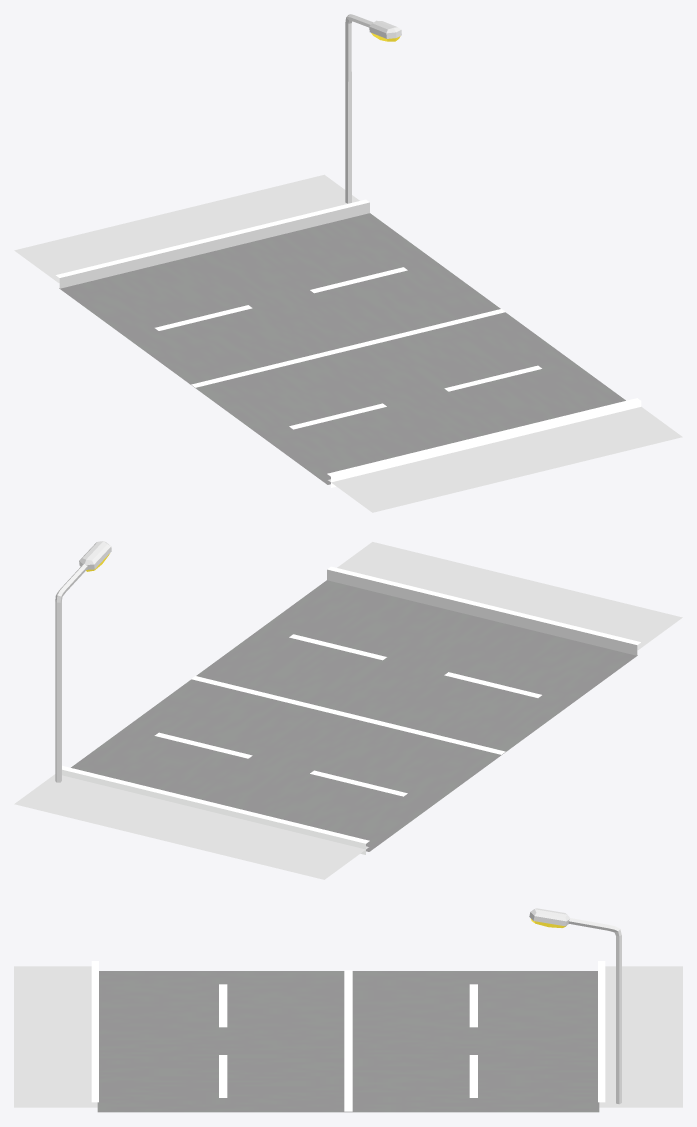
The model's file is road_tile_2x2_8.glb.
The picture shows the model from 3 angles, top to bottom: view 1: azimuth 30°, elevation 25°; view 2: azimuth 150°, elevation 25°; view 3: azimuth 270°, elevation 25°; orthographic projection. The views are drawn at different scales.
Visible parts, largest first — view 1: road_tile_2x2_8(Clone); view 2: road_tile_2x2_8(Clone); view 3: road_tile_2x2_8(Clone).
Boxes of the visible parts, x1=… form: road_tile_2x2_8(Clone): x1=14, y1=14, x2=682, y2=512; road_tile_2x2_8(Clone): x1=14, y1=541, x2=682, y2=879; road_tile_2x2_8(Clone): x1=14, y1=908, x2=682, y2=1112.
Size of the model in its own units: 8 by 5.25 by 16.
1 material, 1 textured.
